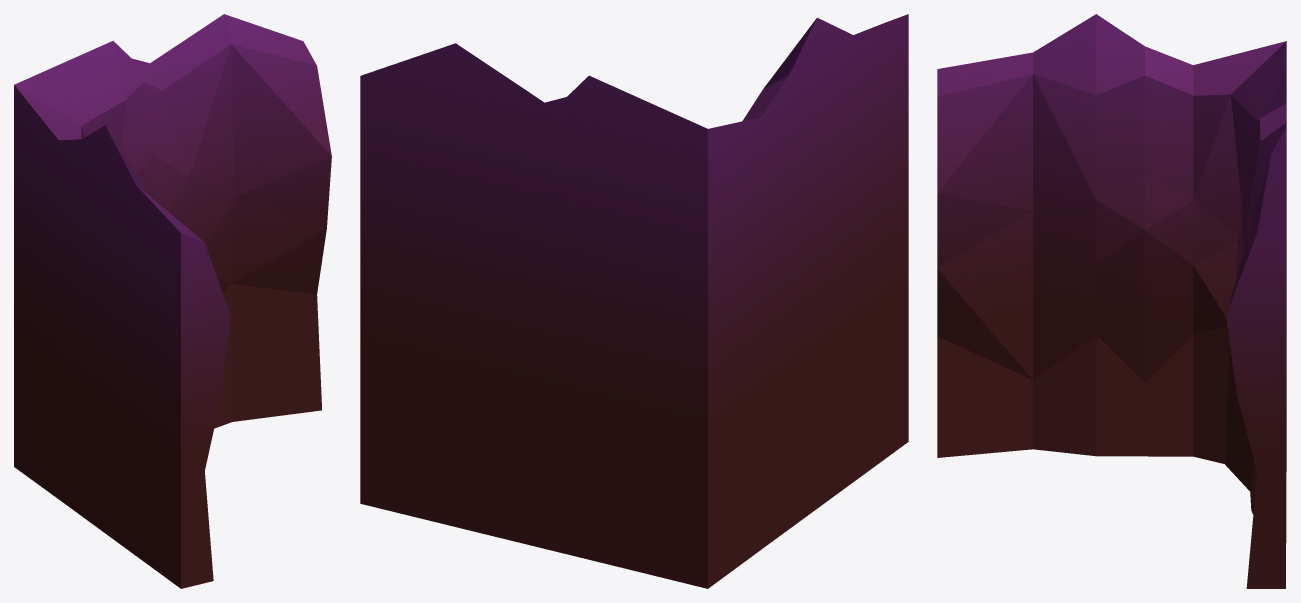
File: Mod_Wall_Turn90.fbx
3 renders of one model, left to right at view 1: azimuth 30°, elevation 25°; view 2: azimuth 150°, elevation 25°; view 3: azimuth 270°, elevation 25°, orthographic. The views are drawn at different scales.
Visible parts, largest first — view 1: Mod_Wall_90Turn; view 2: Mod_Wall_90Turn; view 3: Mod_Wall_90Turn.
Part boxes in pixels (x1,y1,x2,y2): Mod_Wall_90Turn: (14,14,331,588); Mod_Wall_90Turn: (360,14,908,588); Mod_Wall_90Turn: (937,14,1286,588).
Bounding box in the file's own units: 8.88 × 11.98 × 8.88.
1 material, 1 textured.
